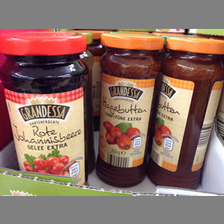jam: (1, 31, 90, 187), (149, 33, 224, 189), (95, 32, 166, 188)
